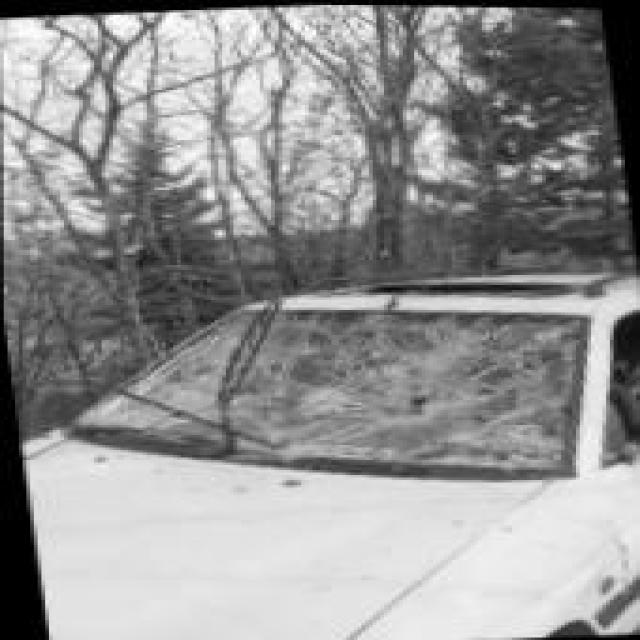Windshield: (45, 300, 604, 479)
